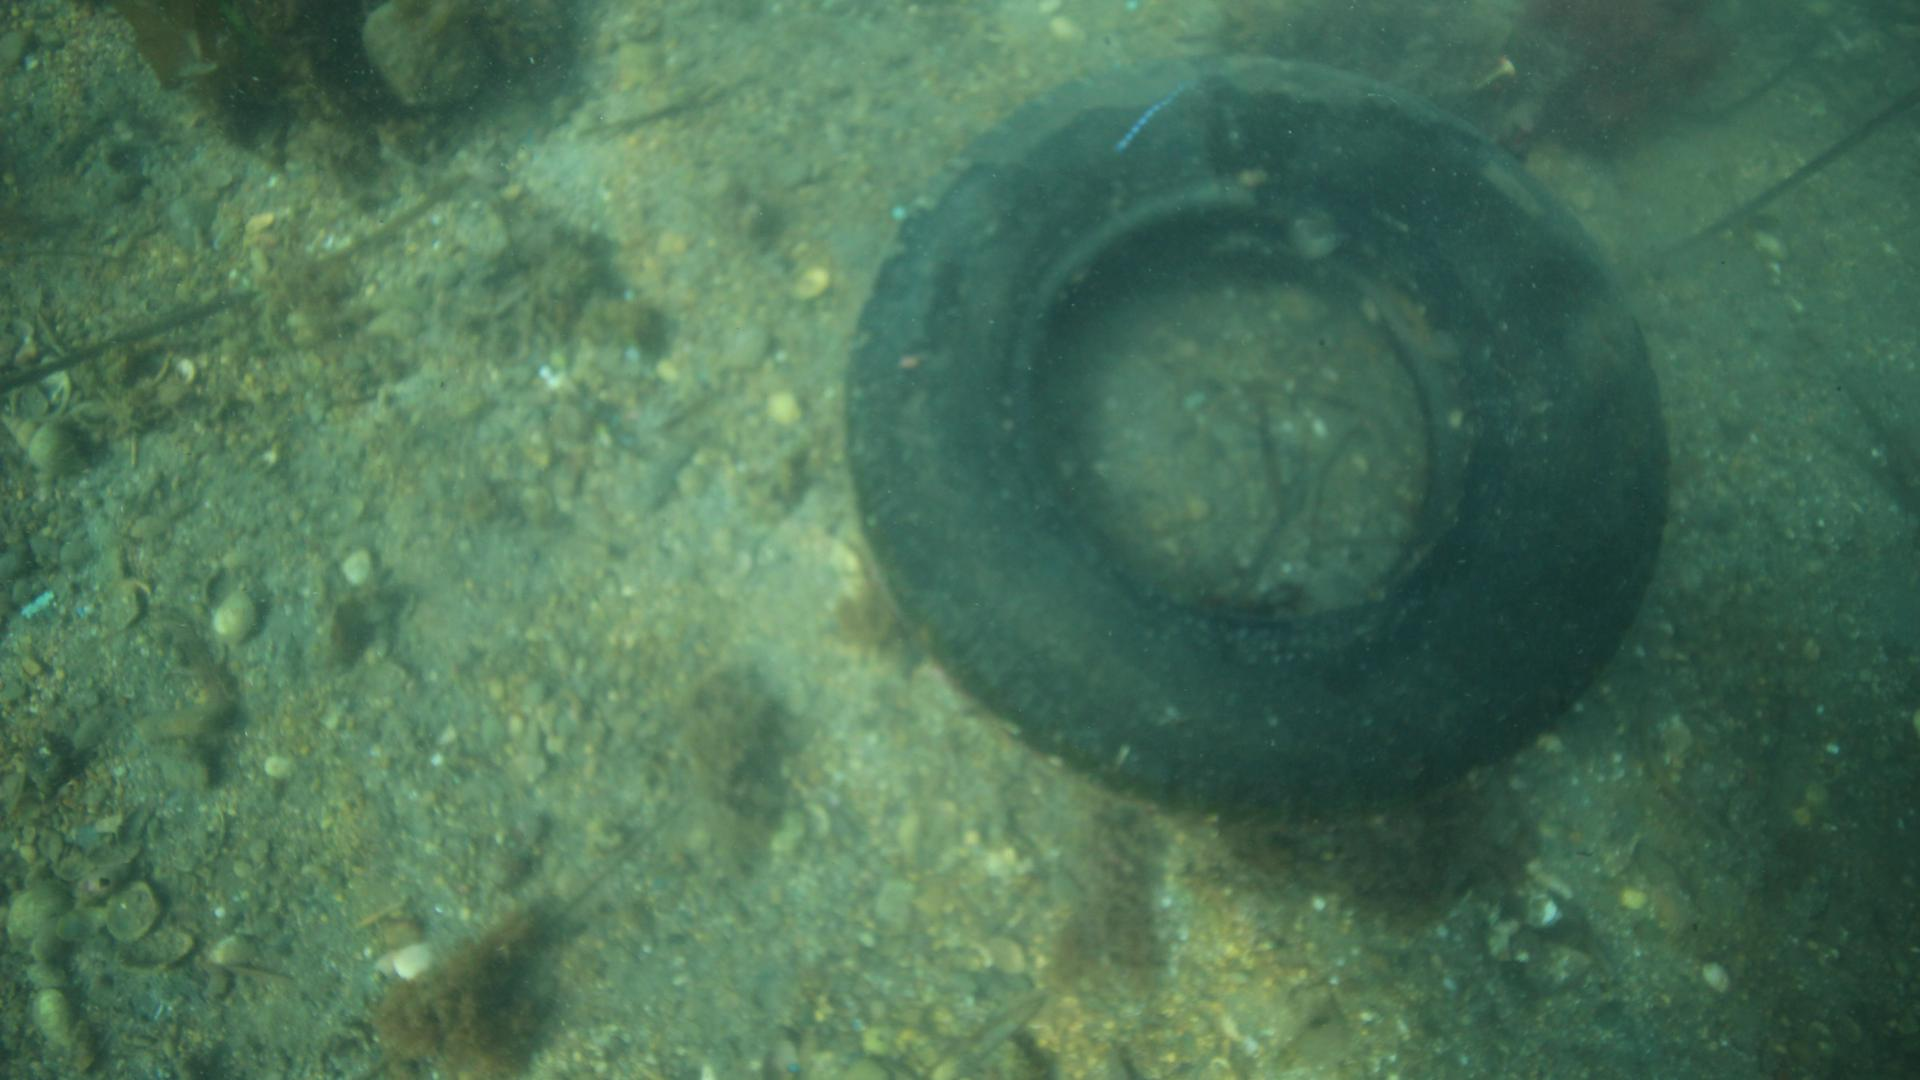tire: (840, 50, 1669, 833)
